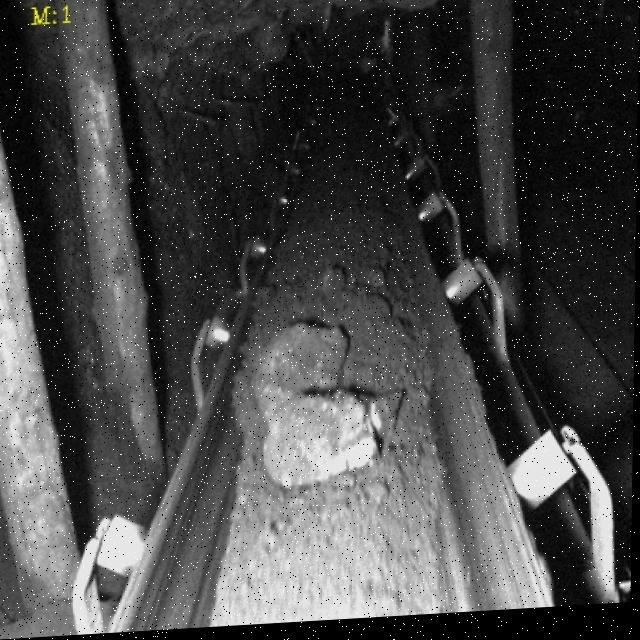large_sized_coal: (265, 394, 403, 485), (255, 327, 354, 409)
